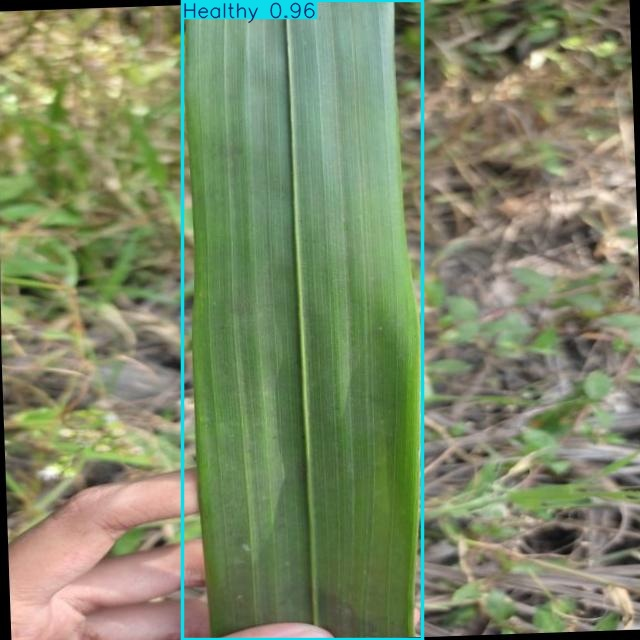Healthy: (182, 1, 423, 639)
